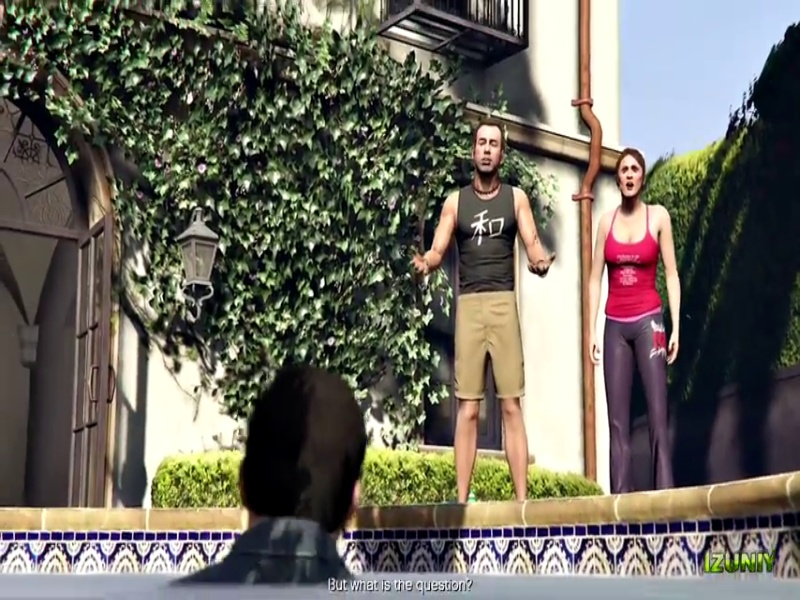human: (578, 138, 679, 494)
